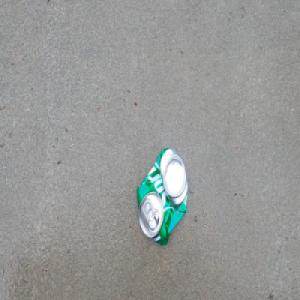SodaCan: (136, 144, 190, 248)
